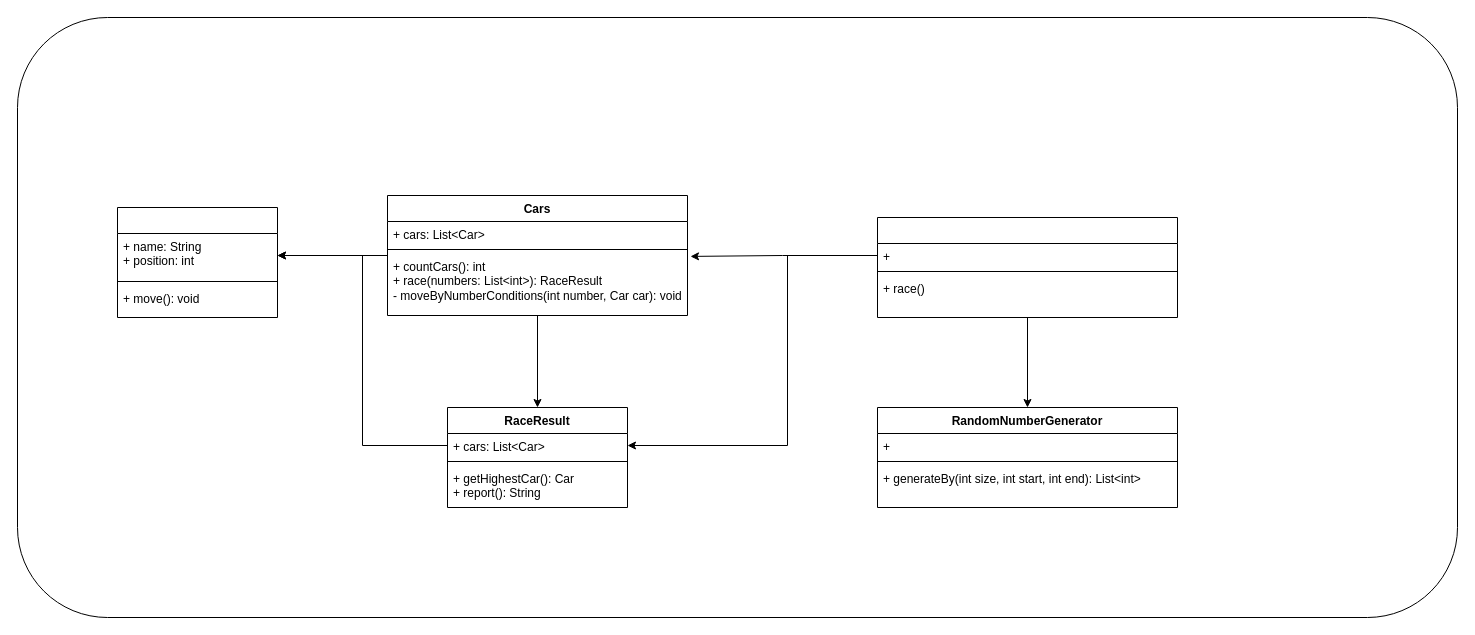
This 1475x635 diagram has some shape labels left out. Each missing label, with the box of its shape:
Car: (116, 206, 278, 318)
Racing: (876, 216, 1178, 318)
